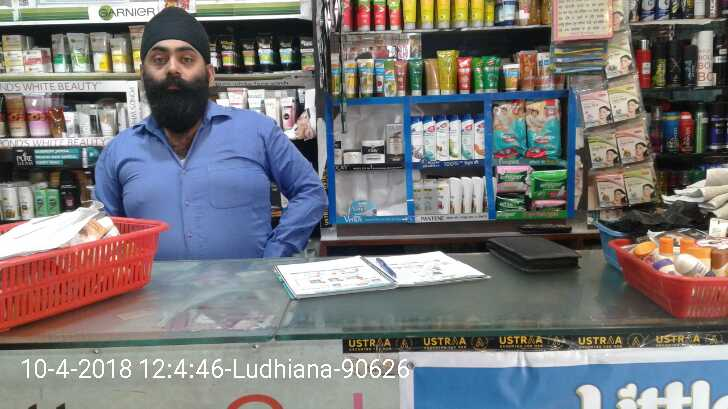venus: (350, 201, 375, 215)
